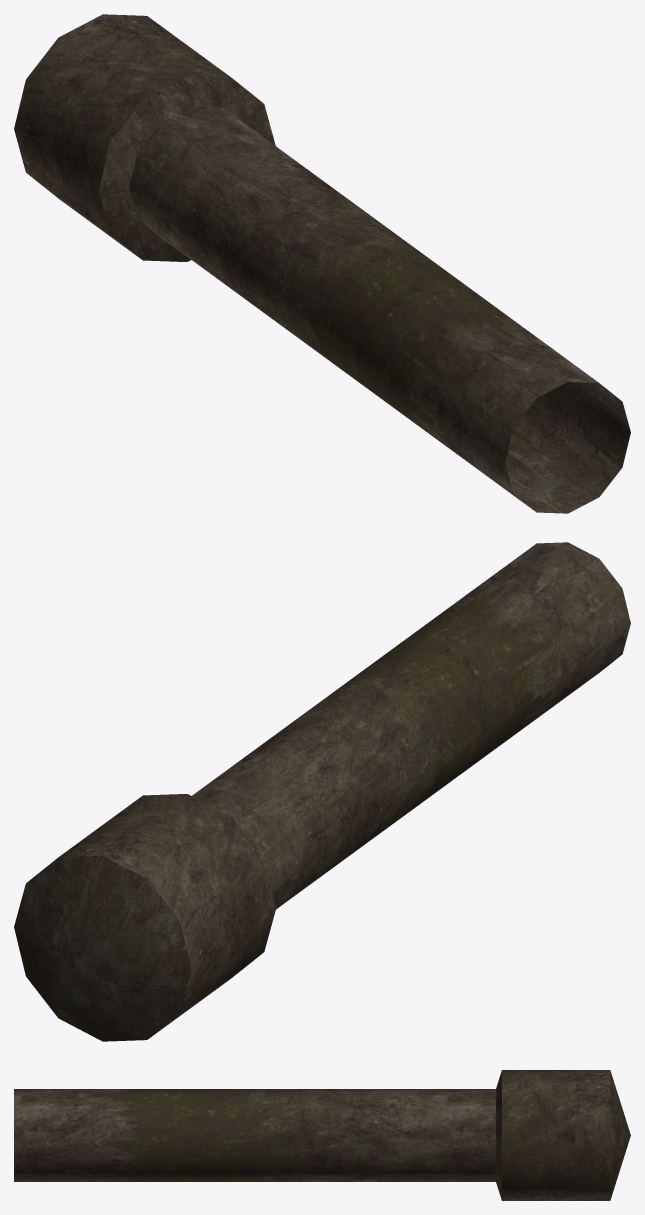
The model's file is TI_Chimney_Pipe_01.fbx.
3 views of the same model, one above another, from view 1: azimuth 30°, elevation 25°; view 2: azimuth 150°, elevation 25°; view 3: azimuth 270°, elevation 25° (orthographic). The views are drawn at different scales.
Visible parts, largest first — view 1: TI_Chimney_Pipe_01; view 2: TI_Chimney_Pipe_01; view 3: TI_Chimney_Pipe_01.
Boxes of the visible parts, x1=… form: TI_Chimney_Pipe_01: x1=14, y1=14, x2=630, y2=513; TI_Chimney_Pipe_01: x1=14, y1=542, x2=630, y2=1041; TI_Chimney_Pipe_01: x1=14, y1=1070, x2=630, y2=1200.
Size of the model in its own units: 0.7607 by 0.7607 by 3.57.
